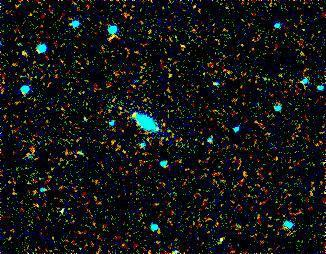star: (118, 103, 148, 133)
